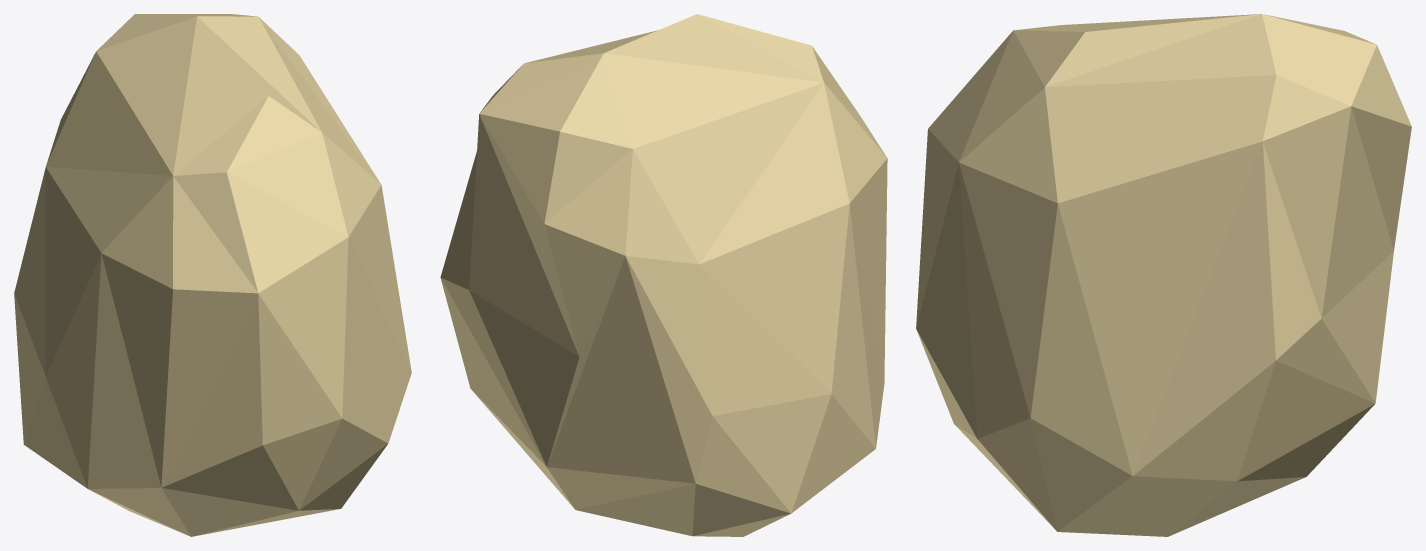
Rendered from Rock (94).fbx.
3 renders of one model, left to right at view 1: azimuth 30°, elevation 25°; view 2: azimuth 150°, elevation 25°; view 3: azimuth 270°, elevation 25°, orthographic. The views are drawn at different scales.
Parts seen in each view (by area): view 1: Asteroid93; view 2: Asteroid93; view 3: Asteroid93.
Boxes of the visible parts, bbox=[...] form: Asteroid93: bbox=[14, 14, 411, 536]; Asteroid93: bbox=[440, 14, 887, 536]; Asteroid93: bbox=[916, 14, 1411, 536].
Size of the model in its own units: 38.06 by 49.84 by 44.76.
